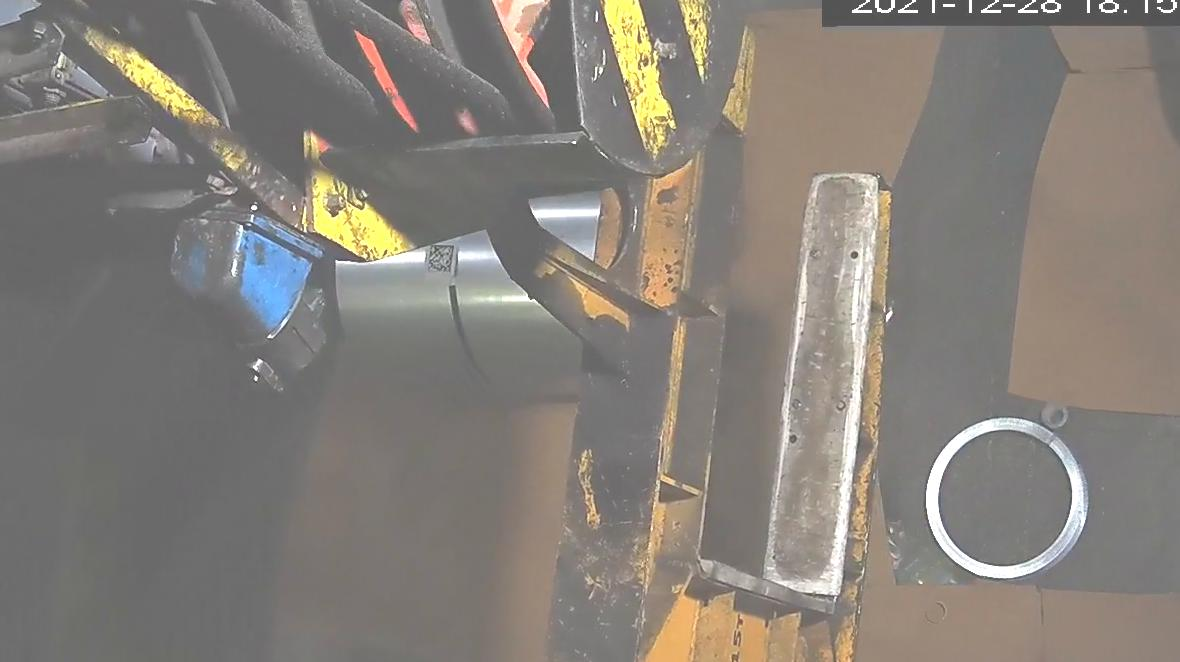data matrix: (426, 244, 457, 275)
